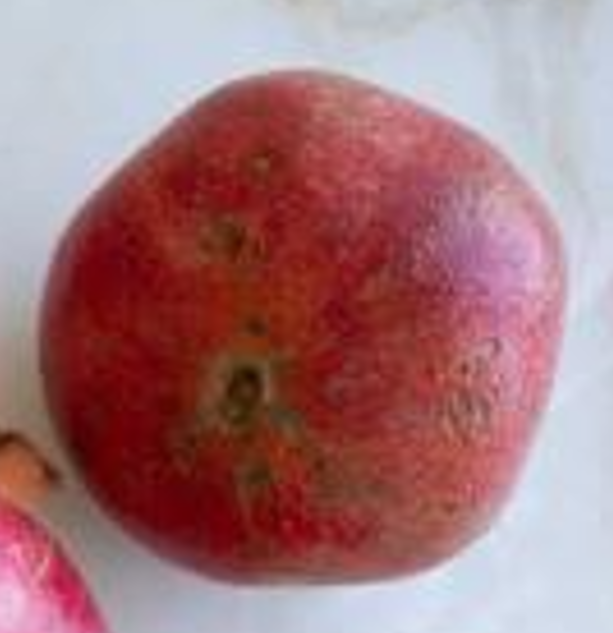pomegranate_B: (40, 71, 571, 586)
